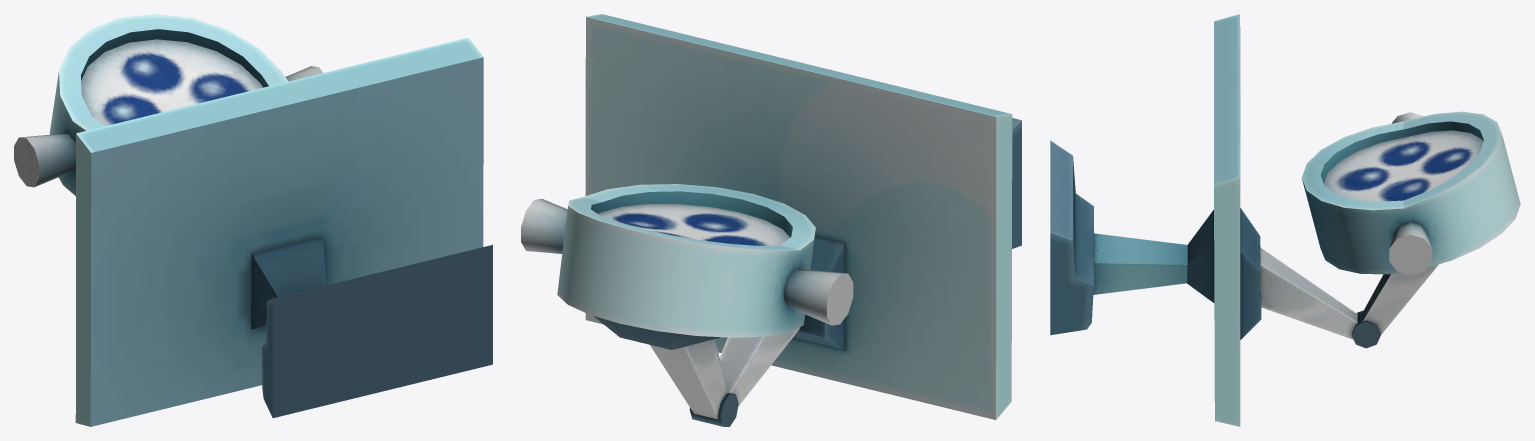
File: HospitalTable.fbx
3 views of the same model, side by side, from view 1: azimuth 30°, elevation 25°; view 2: azimuth 150°, elevation 25°; view 3: azimuth 270°, elevation 25° (orthographic). The views are drawn at different scales.
Parts seen in each view (by area): view 1: HospitalTable; view 2: HospitalTable; view 3: HospitalTable.
Boxes of the visible parts, x1,y1,x2,y2 form: HospitalTable: (14, 14, 492, 426); HospitalTable: (521, 14, 1021, 426); HospitalTable: (1050, 14, 1520, 426).
Bounding box in the file's own units: 81.15 × 57.26 × 98.18.
